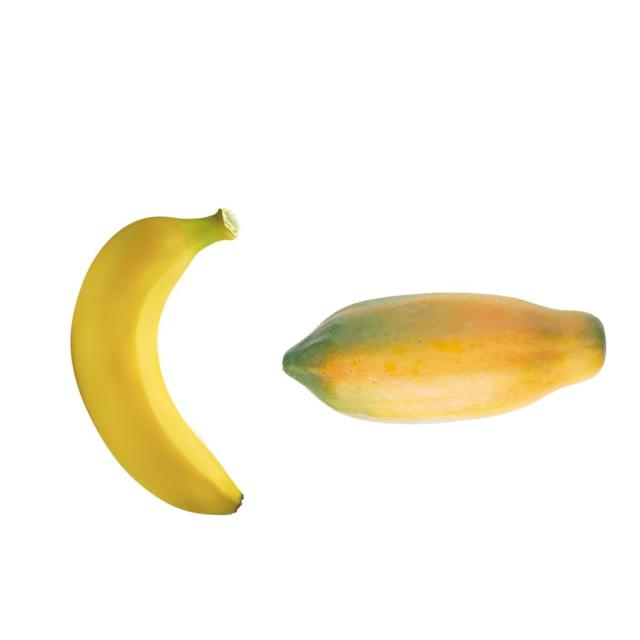Pepaya: (281, 290, 607, 424)
Pisang: (69, 206, 245, 516)
